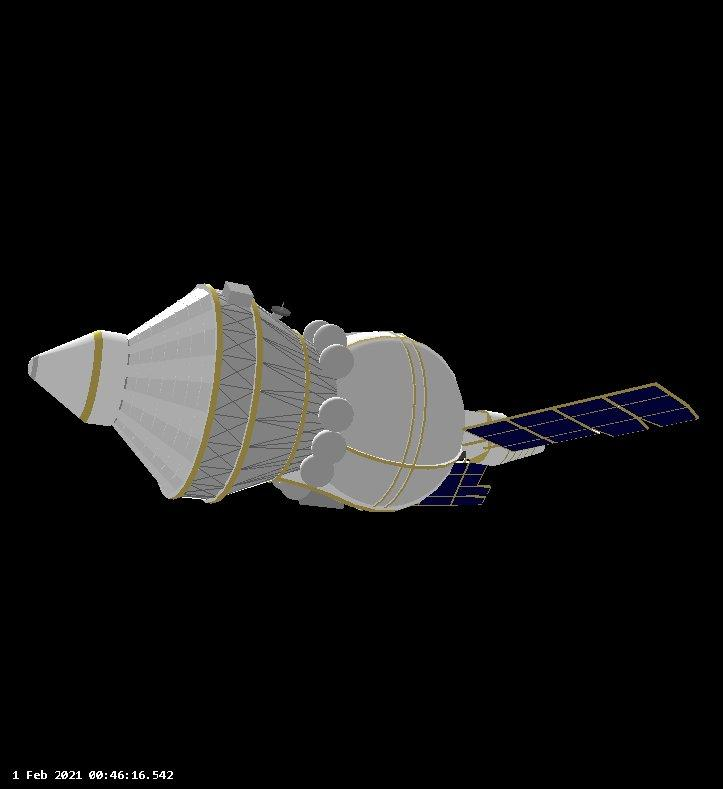antenna: (272, 298, 293, 320)
body: (22, 275, 465, 519)
solar: (464, 375, 704, 456), (405, 463, 495, 510)
